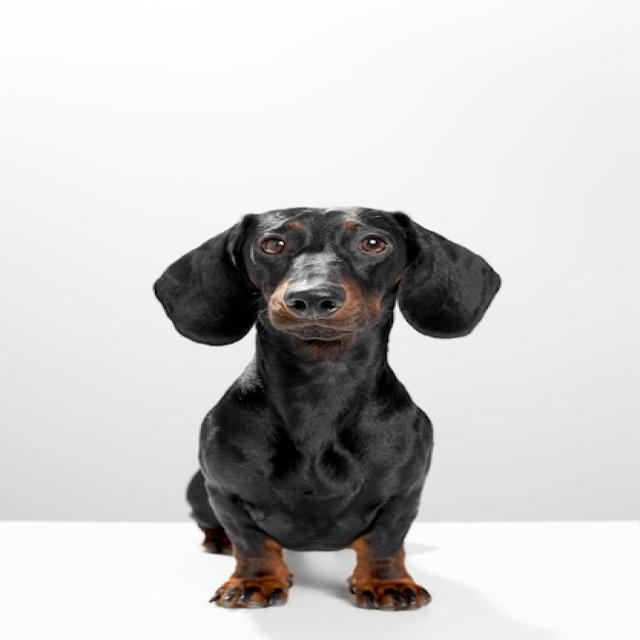Dog: (152, 203, 502, 611)
